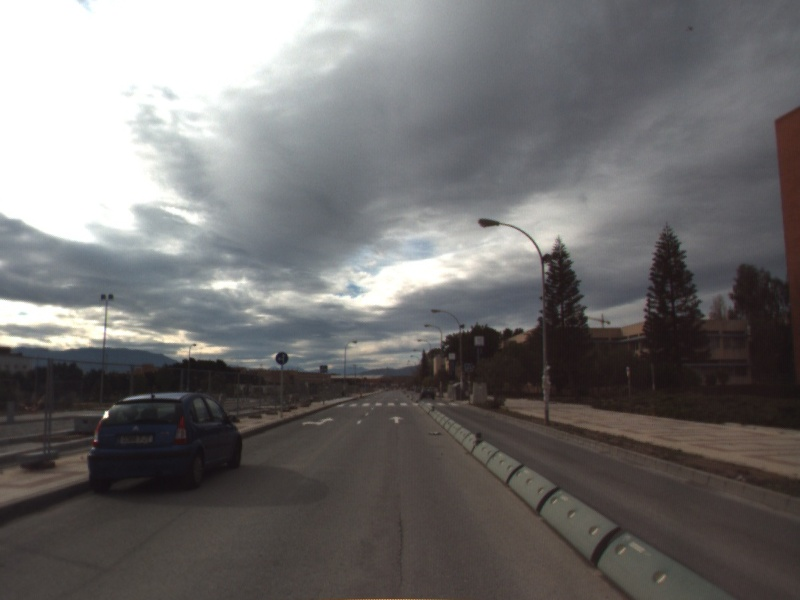STRAIGHT: (387, 413, 407, 425)
STRAIGHT_LEFT: (300, 415, 336, 428)
